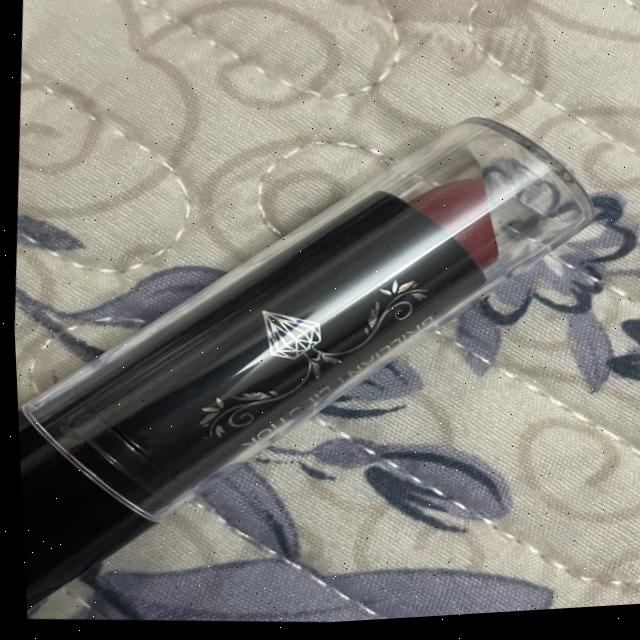lip stick: (4, 76, 638, 640)
